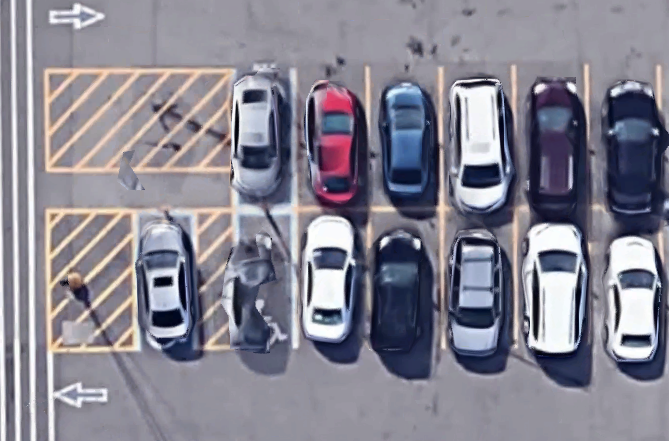Occupied: (514, 207, 591, 352), (365, 66, 442, 209), (440, 206, 516, 350), (510, 64, 586, 207), (585, 64, 660, 207), (368, 208, 443, 349), (293, 70, 369, 209), (293, 209, 368, 349), (590, 208, 661, 353), (440, 68, 513, 207), (230, 210, 297, 349), (232, 71, 294, 210), (134, 211, 194, 347)
